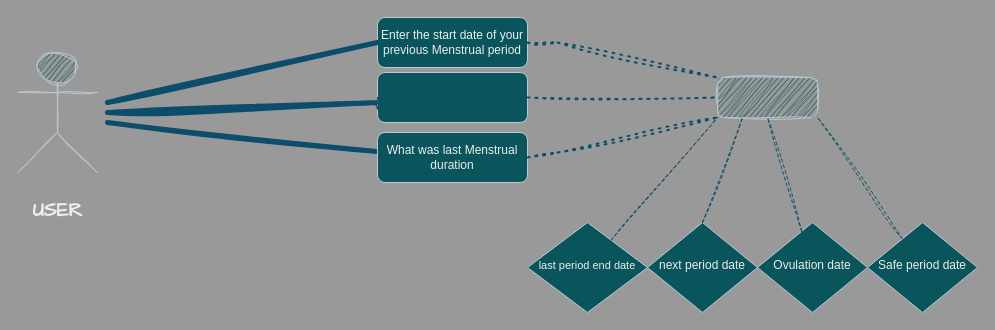
This 995x330 diagram has some shape labels left out. Each missing label, with the centre of its shape:
"Getting information" goes at point (767, 97).
"On the average, how long is your typical Menstrual Cycle" goes at point (452, 97).
